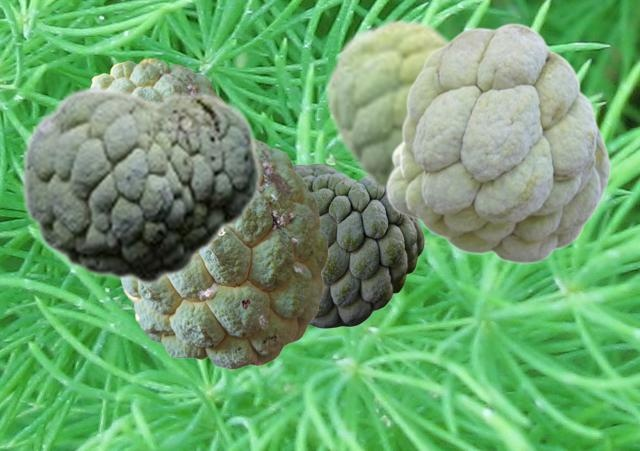atis: (385, 22, 610, 263), (20, 85, 261, 285), (119, 137, 327, 368), (323, 16, 453, 197), (294, 163, 423, 327), (90, 58, 216, 100)
